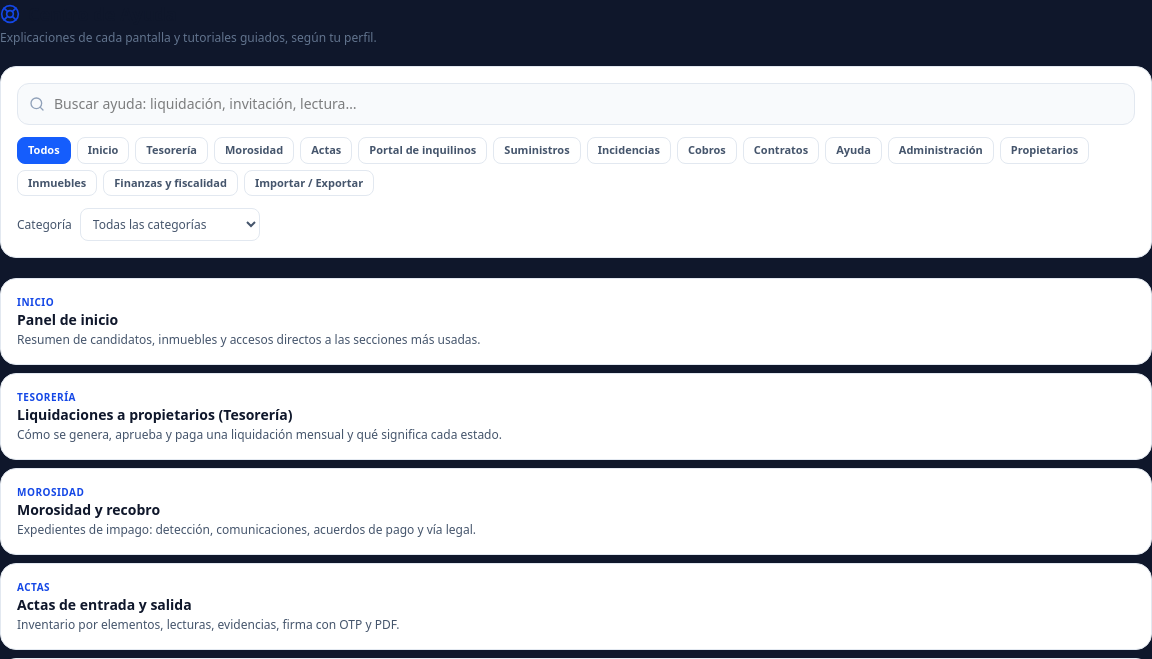
Test: BLOQUE 9 · Centro de Ayuda › filtra por categorías autorizadas y muestra contenidos categorizados
Select "Documentos" in the dropdown named "Filtrar por categoría": (170, 224) [80,208,260,241]
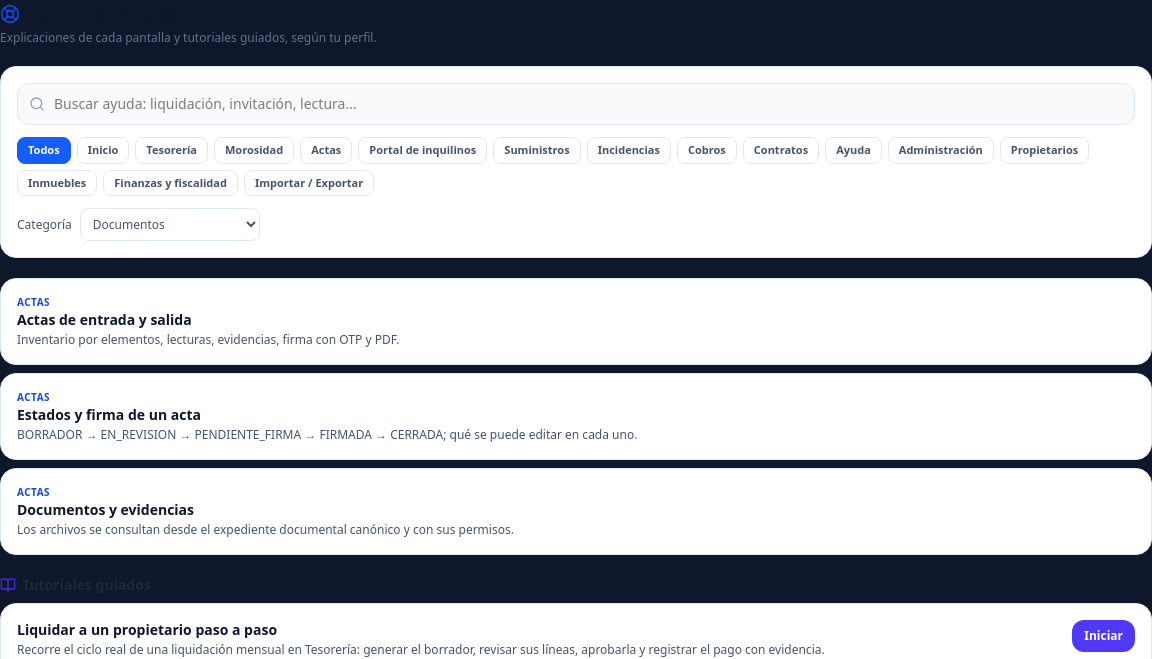
Expected: the heading "Documentos y evidencias" is shown, [17,500,194,519]
Expected: the heading "Migración histórica" is not shown
Select "Migración" in the dropdown named "Filtrar por categoría": (170, 224) [80,208,260,241]
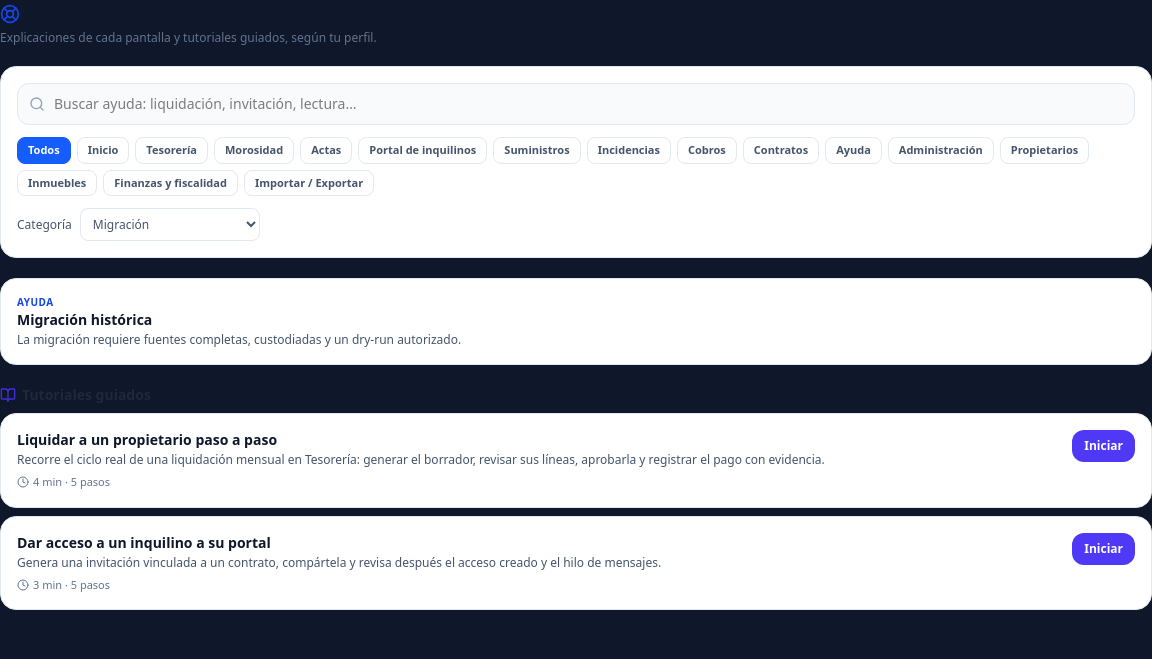
Result: the heading "Migración histórica" is shown at [17,310,152,329]
